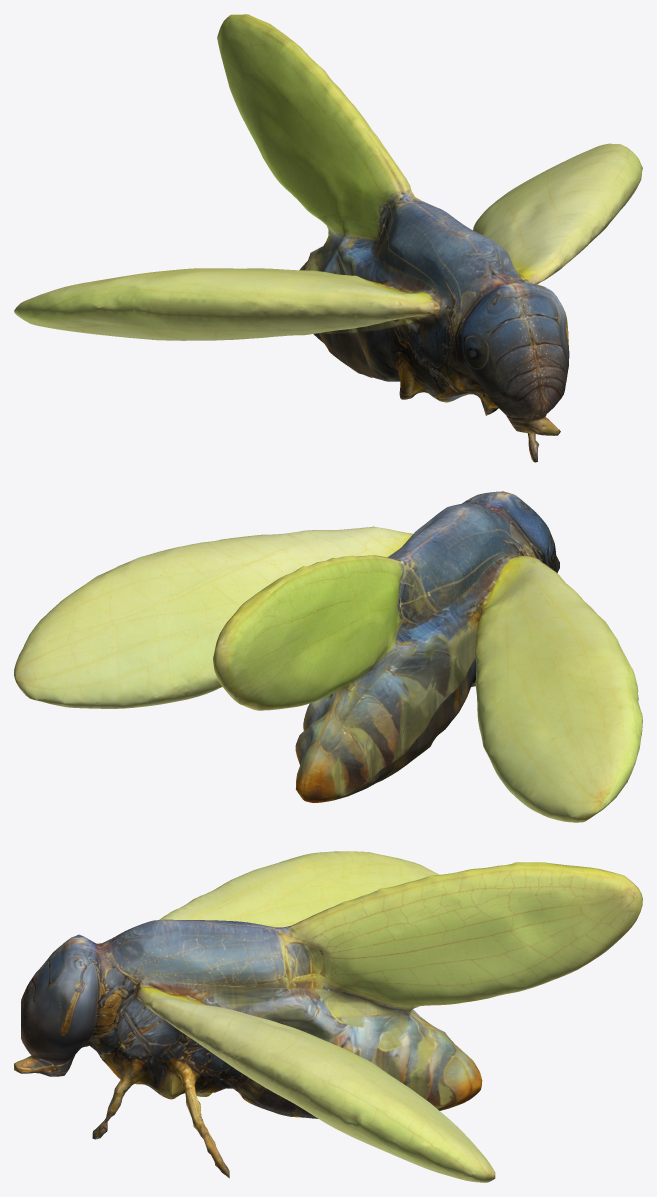
File: firefly_0612153531_refine.fbx
3 renders of one model, top to bottom at view 1: azimuth 30°, elevation 25°; view 2: azimuth 150°, elevation 25°; view 3: azimuth 270°, elevation 25°, orthographic. The views are drawn at different scales.
Parts seen in each view (by area): view 1: Mesh_0; view 2: Mesh_0; view 3: Mesh_0.
Boxes of the visible parts, x1,y1,x2,y2 form: Mesh_0: (14,14,642,462); Mesh_0: (14,491,642,822); Mesh_0: (14,851,642,1182).
Bounding box in the file's own units: 120 × 53.93 × 112.
1 material, 1 textured.
